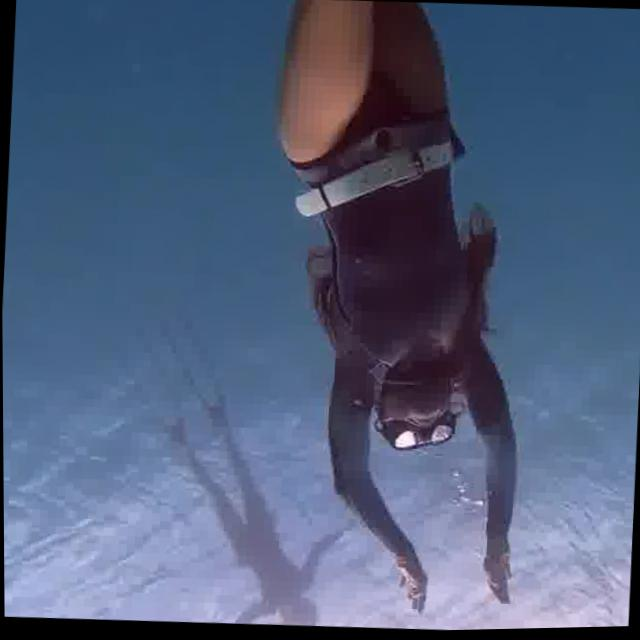human: (245, 0, 561, 634), (163, 394, 360, 632)
